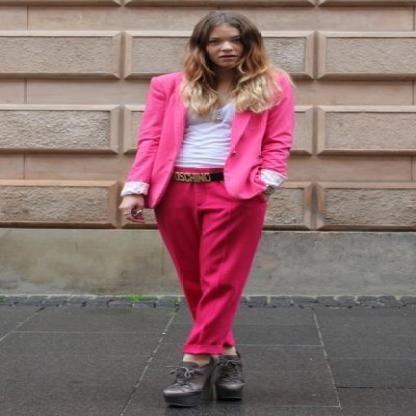jacket: (126, 62, 305, 198)
pants: (137, 174, 265, 354)
shirt: (120, 84, 285, 206)
shoe: (164, 362, 254, 411)
